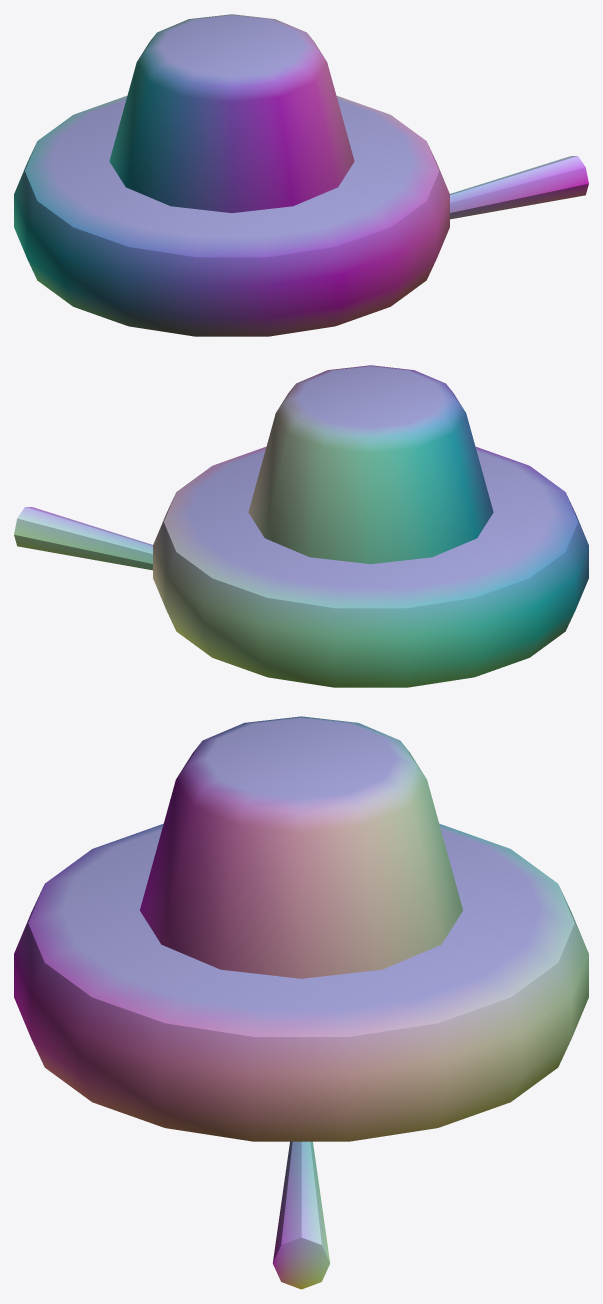
Rendered from env_deco_tack.glb.
3 renders of one model, top to bottom at view 1: azimuth 30°, elevation 25°; view 2: azimuth 150°, elevation 25°; view 3: azimuth 270°, elevation 25°, orthographic. The views are drawn at different scales.
Visible parts, largest first — view 1: env_deco_tack_mesh; view 2: env_deco_tack_mesh; view 3: env_deco_tack_mesh.
Part boxes in pixels (x1,y1,x2,y2): env_deco_tack_mesh: [14, 14, 588, 336]; env_deco_tack_mesh: [14, 365, 588, 687]; env_deco_tack_mesh: [14, 716, 588, 1289].
Bounding box in the file's own units: 0.1691 × 0.071 × 0.12.
